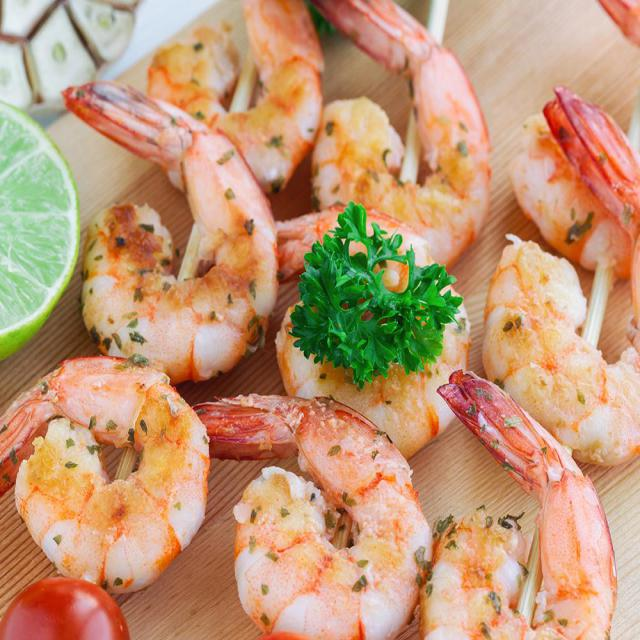camarao: (61, 78, 280, 378), (479, 66, 640, 468), (196, 396, 432, 639), (294, 0, 494, 266), (433, 366, 615, 639), (7, 356, 212, 593), (149, 7, 326, 177)
